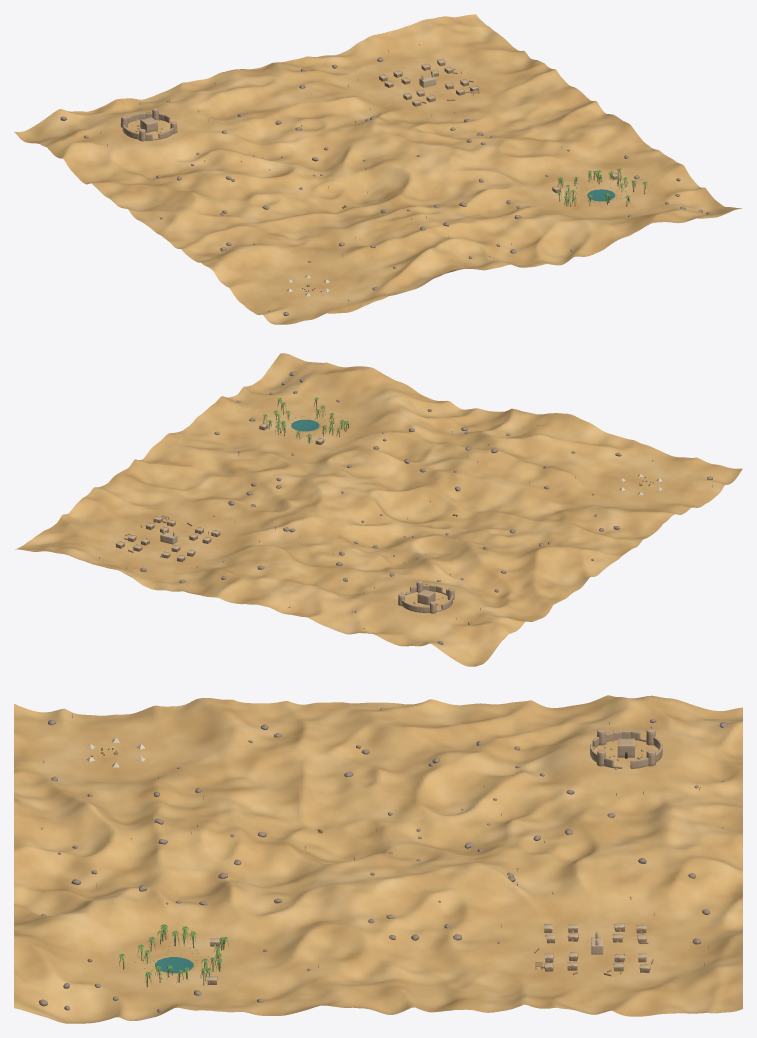
The model's file is map.glb.
3 views of the same model, one above another, from view 1: azimuth 30°, elevation 25°; view 2: azimuth 150°, elevation 25°; view 3: azimuth 270°, elevation 25° (orthographic). The views are drawn at different scales.
Parts seen in each view (by area): view 1: Carte; view 2: Carte; view 3: Carte.
Boxes of the visible parts, <box> form: Carte: <box>14,14,742,324</box>; Carte: <box>15,353,742,666</box>; Carte: <box>14,695,742,1023</box>.
Size of the model in its own units: 500 by 32.65 by 500.
Materials: 19 (1 with a texture image).
